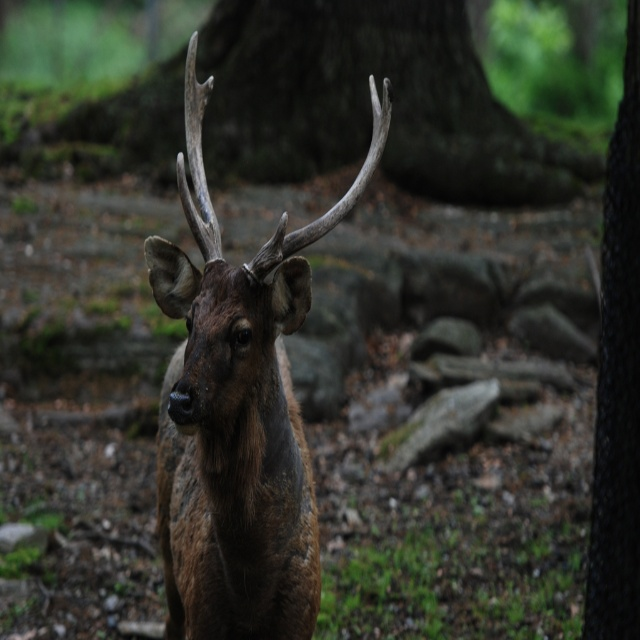Deer: (144, 30, 390, 639)
